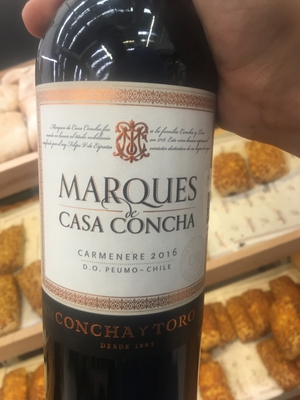marques de casa concha carmenere: (37, 16, 209, 400)
